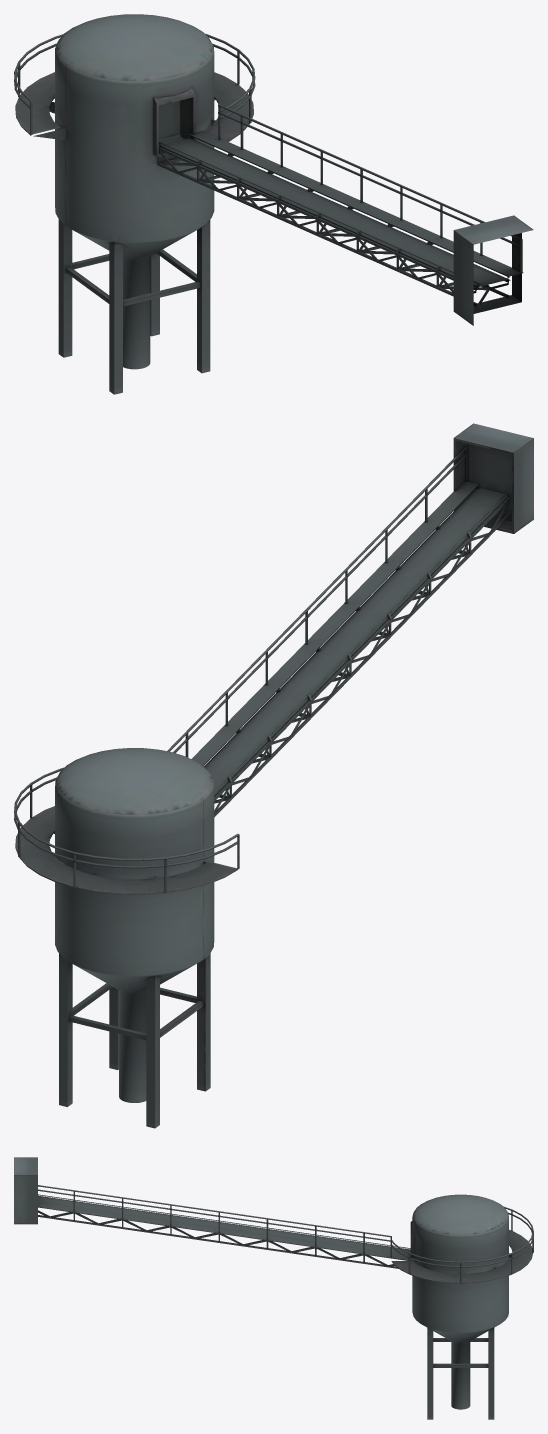
3 renders of one model, top to bottom at view 1: azimuth 30°, elevation 25°; view 2: azimuth 150°, elevation 25°; view 3: azimuth 270°, elevation 25°, orthographic. The views are drawn at different scales.
Parts seen in each view (by area): view 1: body0_model0_lod0_mesh0; view 2: body0_model0_lod0_mesh0; view 3: body0_model0_lod0_mesh0.
Part boxes in pixels (x1,y1,x2,y2): body0_model0_lod0_mesh0: (14,14,533,394); body0_model0_lod0_mesh0: (14,423,533,1128); body0_model0_lod0_mesh0: (14,1157,533,1419).
Bounding box in the file's own units: 388 × 700 × 1378.
1 material, 1 textured.
